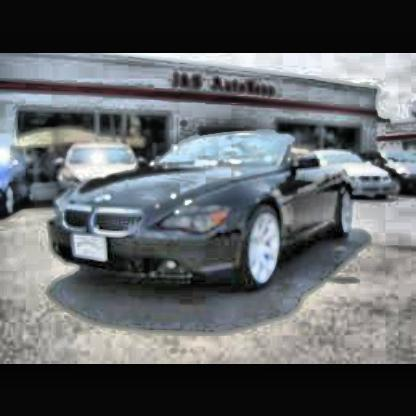BMW 6 Series Convertible 2007: (49, 130, 357, 284)
